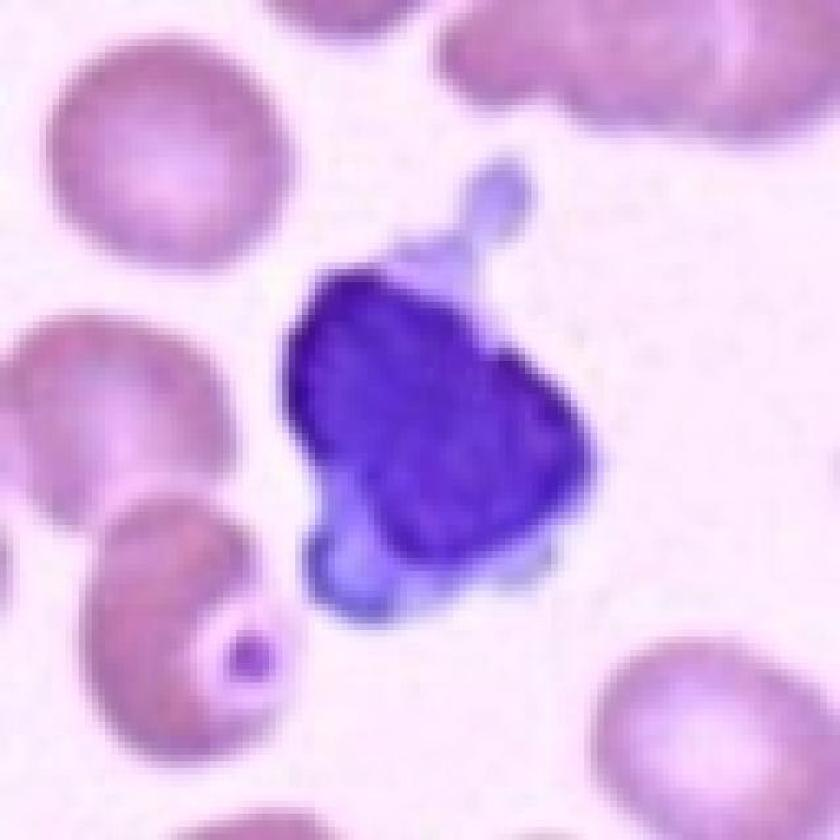lymphocyte: (281, 143, 602, 657)
